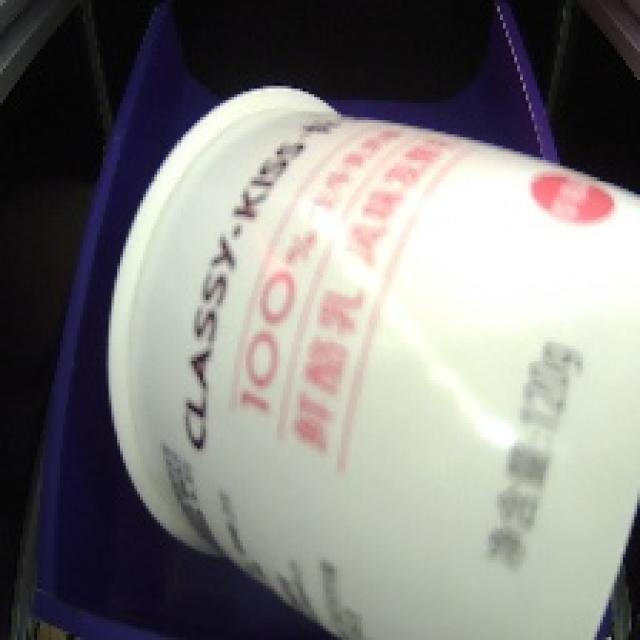cups: (84, 69, 640, 640)
